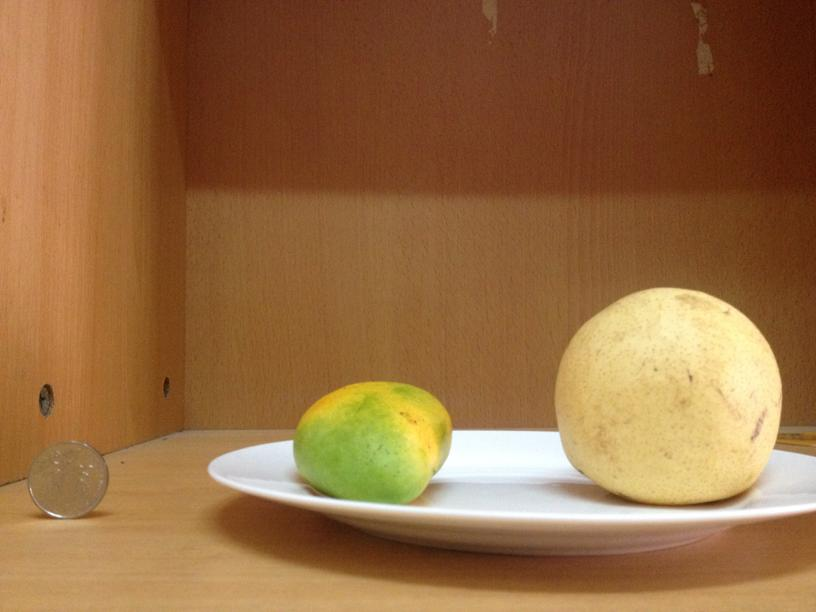coin: (28, 440, 108, 517)
mango: (292, 381, 453, 504)
pear: (559, 282, 781, 498)
